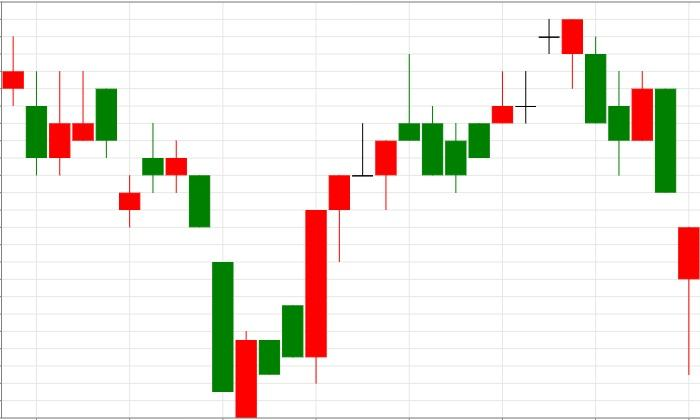inverse_hammer_rise: (2, 36, 95, 176)
shooting_star_fall: (235, 54, 421, 419)
